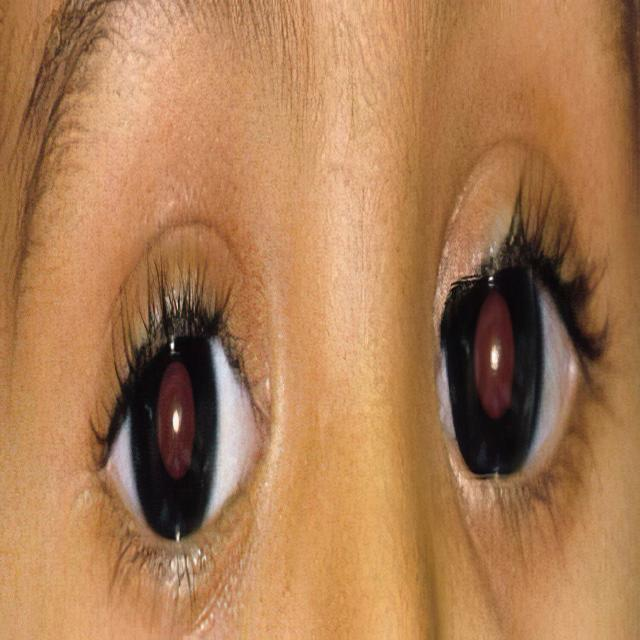reflexo-alterado: (68, 251, 274, 584), (423, 200, 579, 522)
